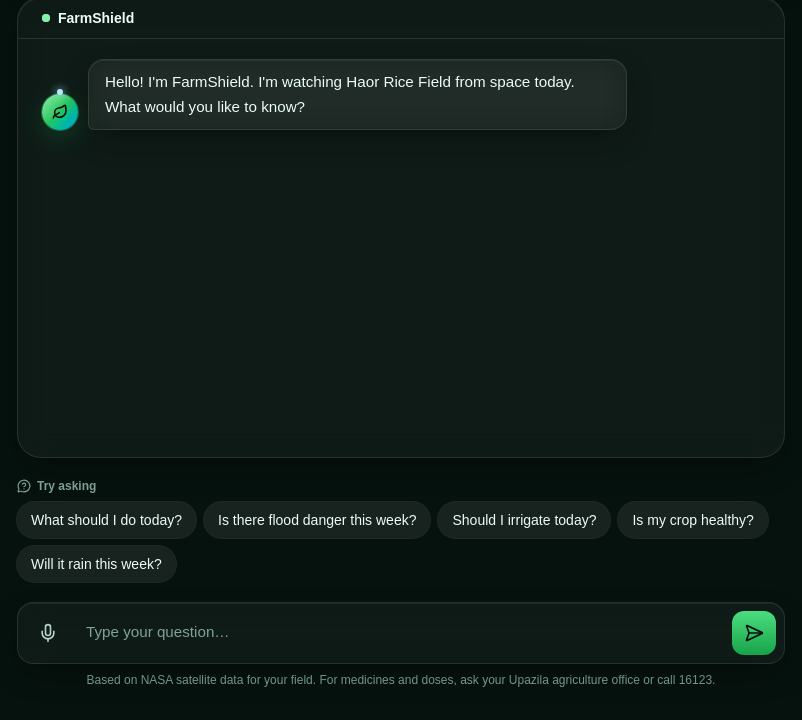
AssistantPage › starts a new chat for a different farm
This screenshot has width=802, height=720.
(page scrolled)
Click the button "Should I irrigate today?": (524, 520) [438,502,610,538]
(page scrolled)
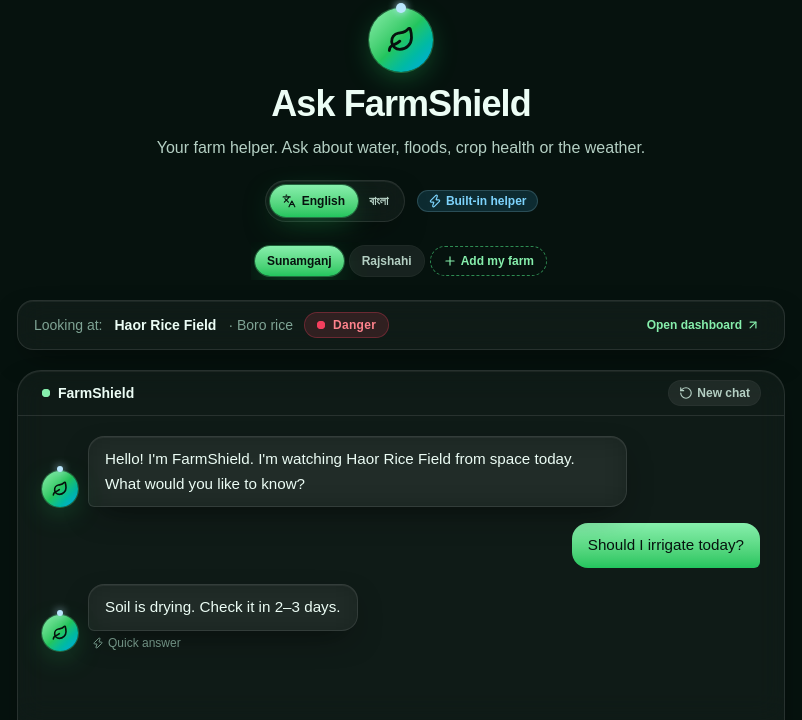
expect the text "Soil is drying. Check it in 2–3 days." is shown: met, box [88,584,358,631]
Click the button "Rajshahi": (387, 261) [350,246,424,276]
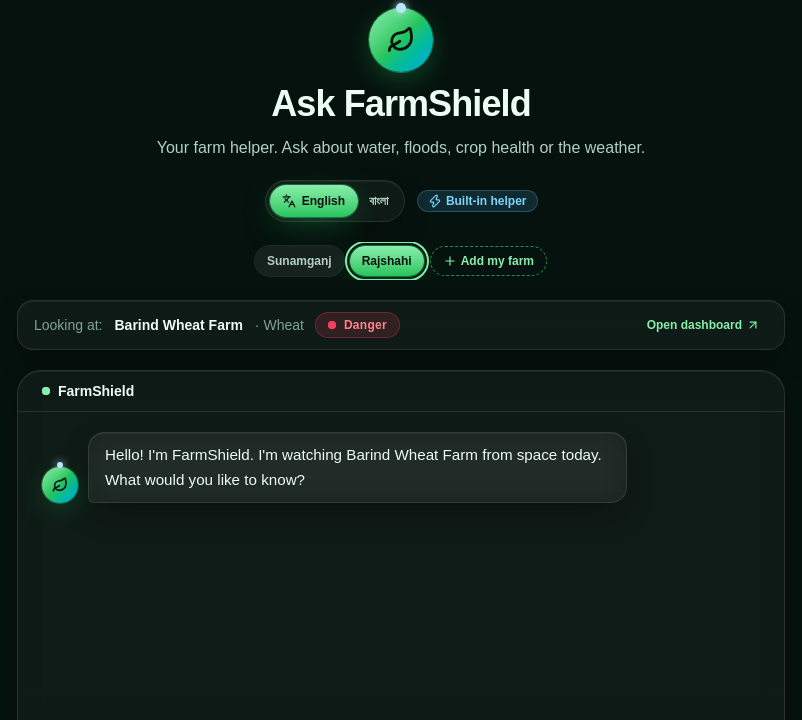
expect the text "watching Barind Wheat Farm" is shown: met, box [105,446,606,488]
expect the text "Soil is drying. Check it in 2–3 days." is gone: met
